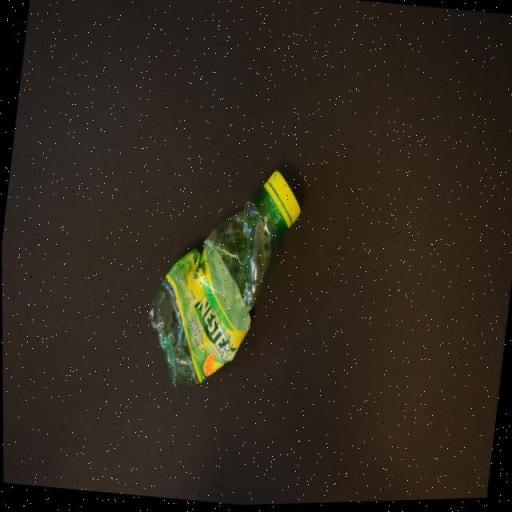plastic: (137, 154, 309, 403)
